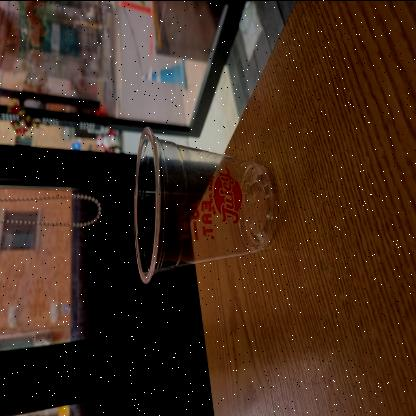Others: (131, 115, 282, 288)
